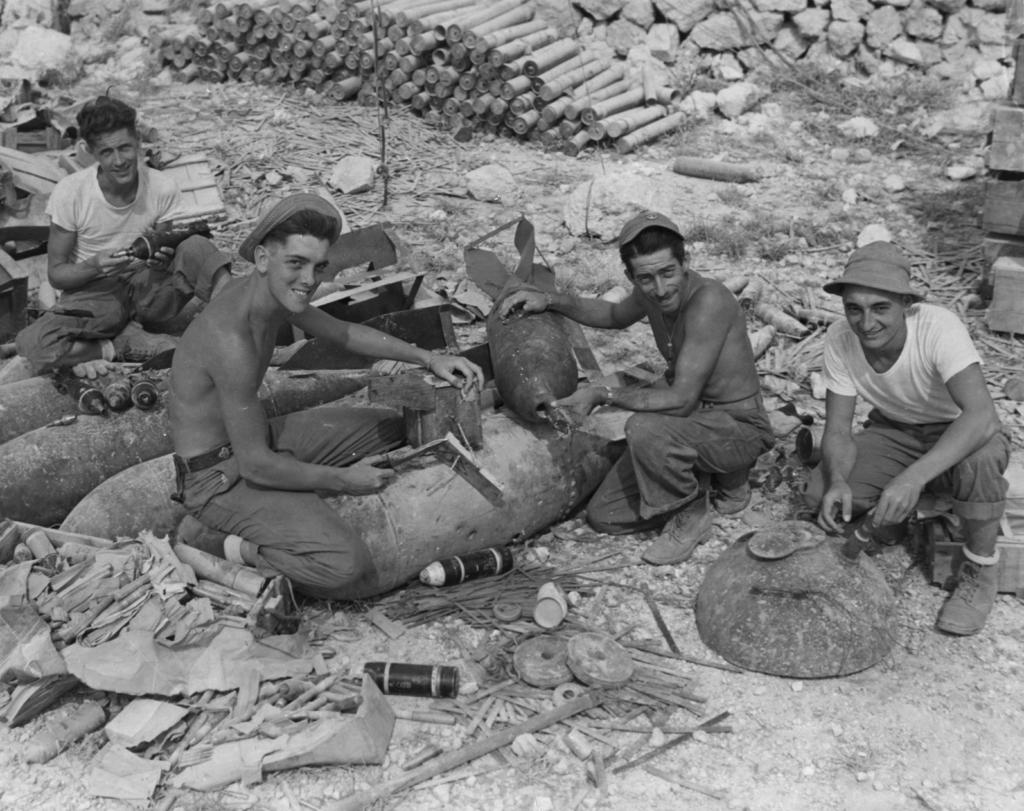Person: (15, 93, 310, 366)
